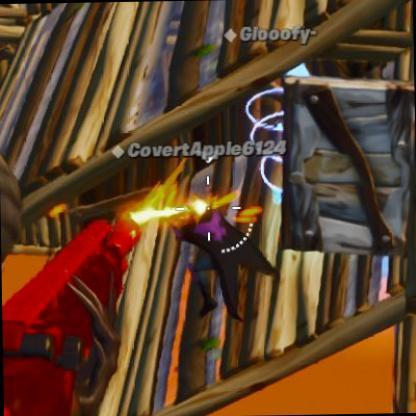person: (172, 212, 258, 332)
